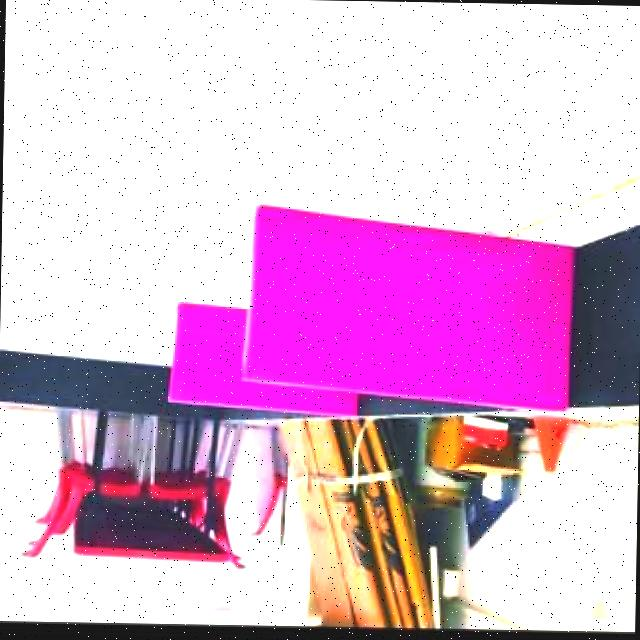xparking: (245, 220, 570, 389)
